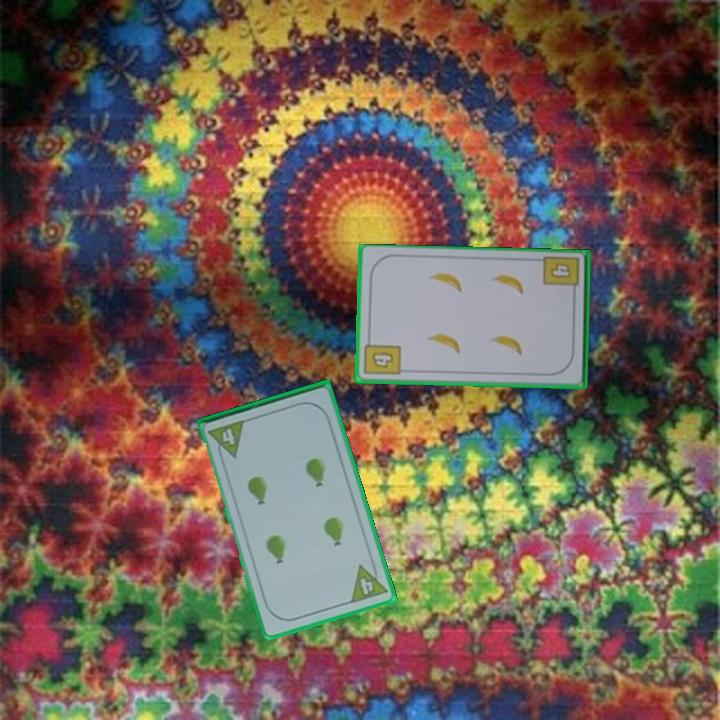4b: (540, 253, 582, 298), (361, 335, 403, 378)
4p: (347, 558, 390, 606), (205, 417, 248, 463)
